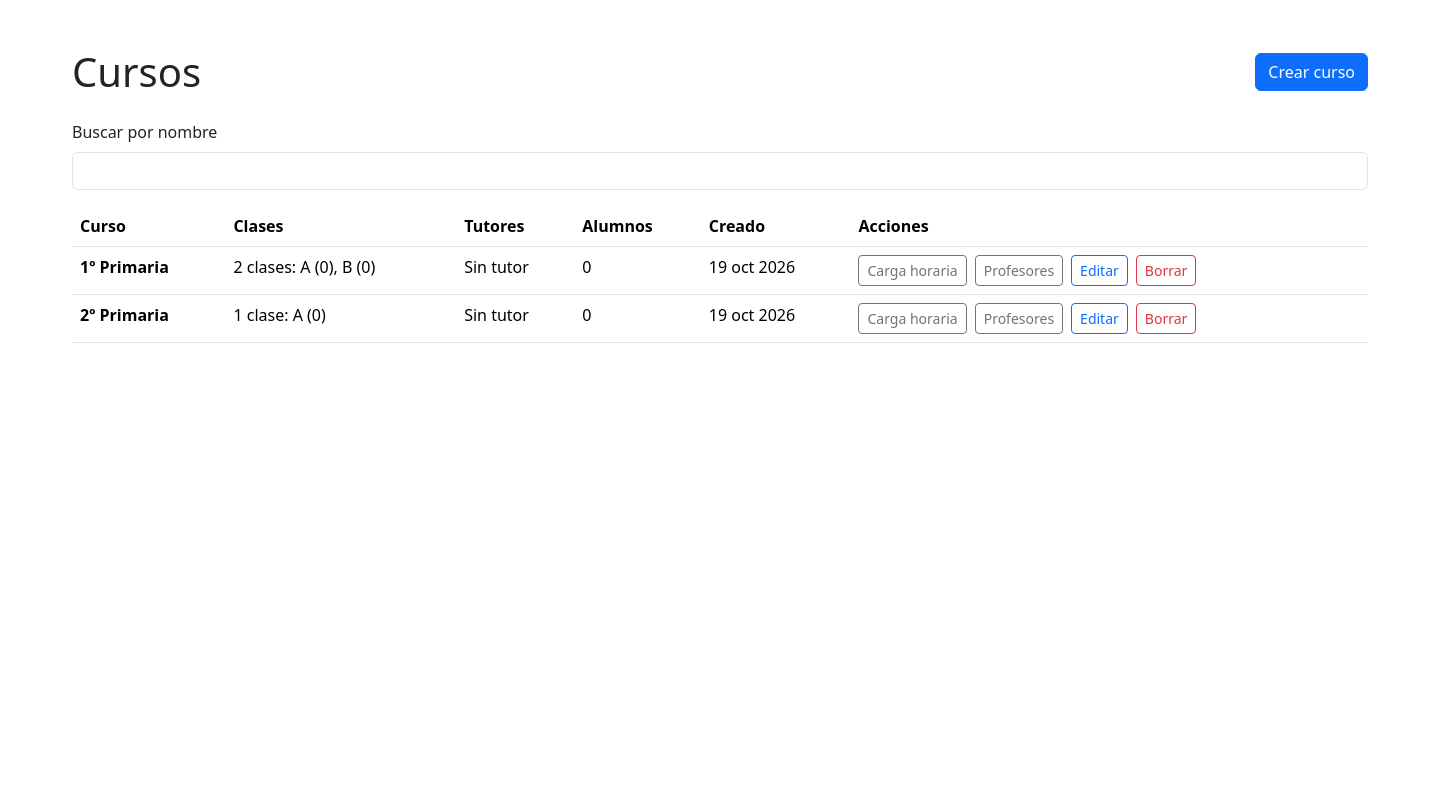
Test case: CoursesPage › on a wide screen › deleting a course › removes the course from the list without asking for it again, and says it was deleted
Click the button with aria-label "Borrar 1º Primaria".
click(1166, 270)  # box [1136, 255, 1196, 286]
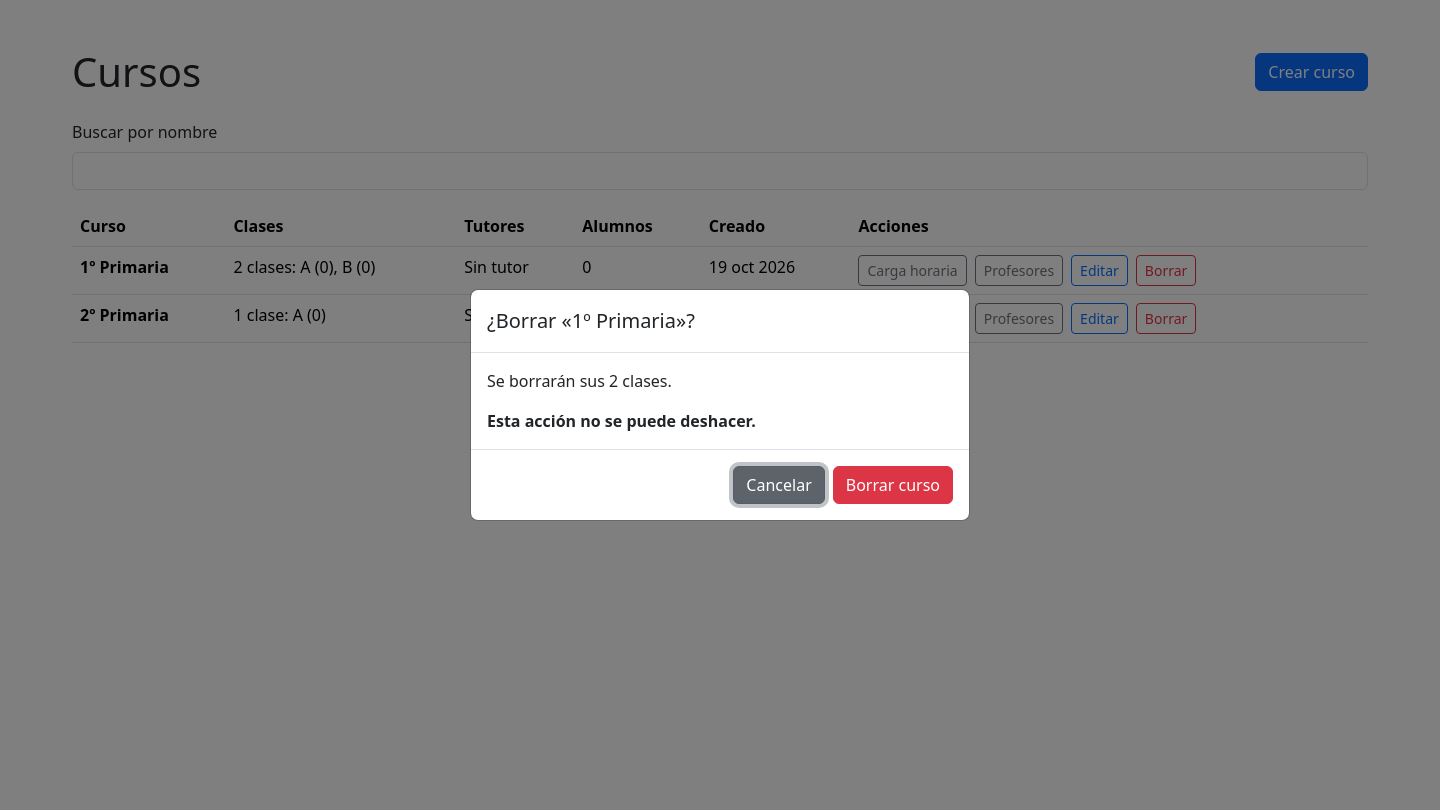
Click the button "Borrar curso".
click(893, 485)  # box [833, 466, 953, 504]
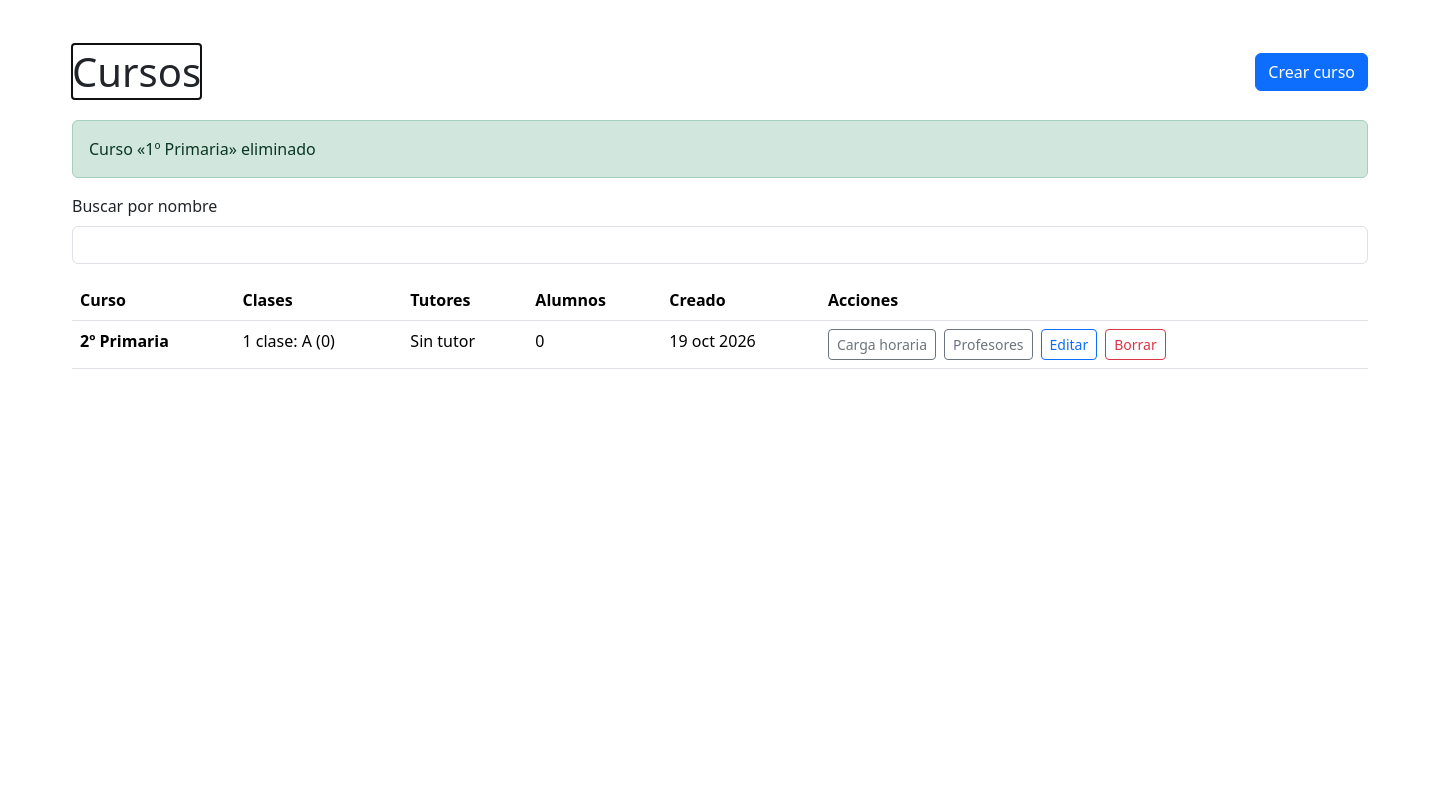
Check: the text "Curso «1º Primaria» eliminado" is shown, box [72, 120, 1368, 178]
Check: the dialog is gone
Check: the text "2 clases: A (0), B (0)" is gone
